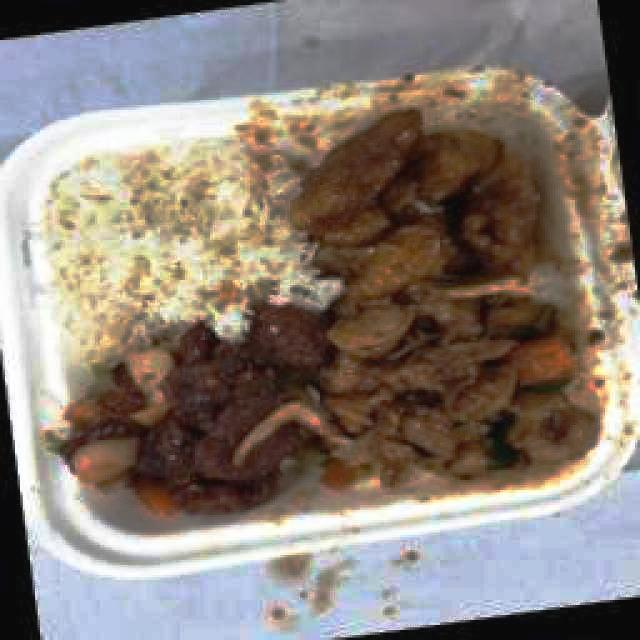Beijing Beef: (76, 334, 301, 513)
Kung Pao Chicken: (328, 313, 594, 477)
rice: (66, 173, 291, 302)
